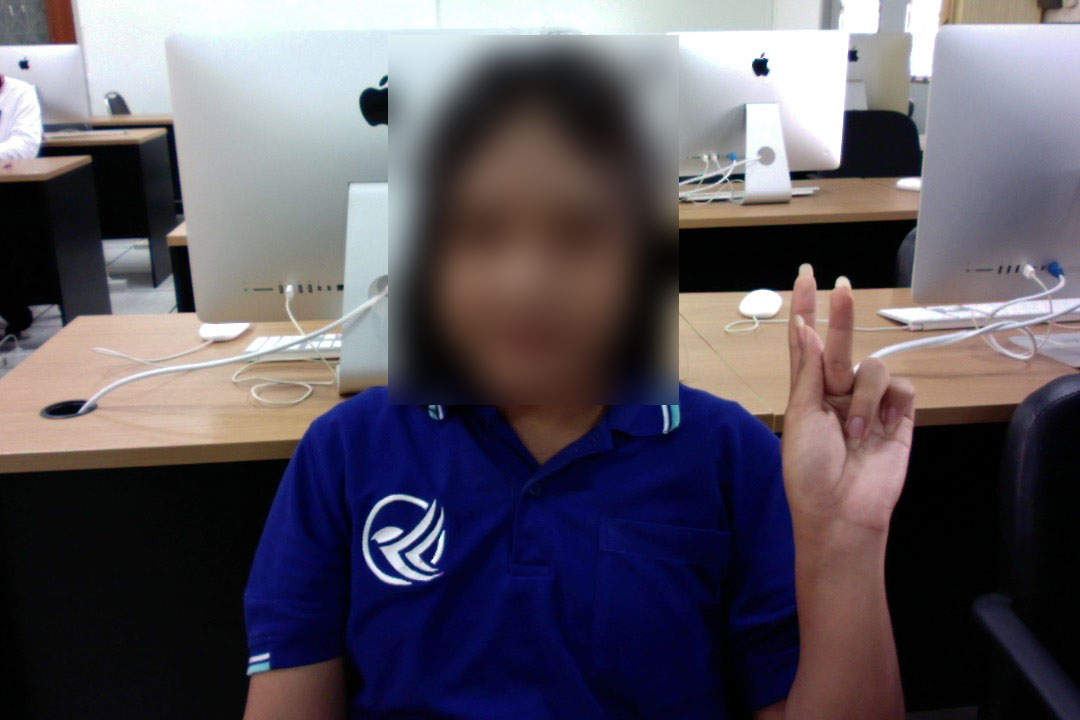ko: (774, 251, 923, 544)
